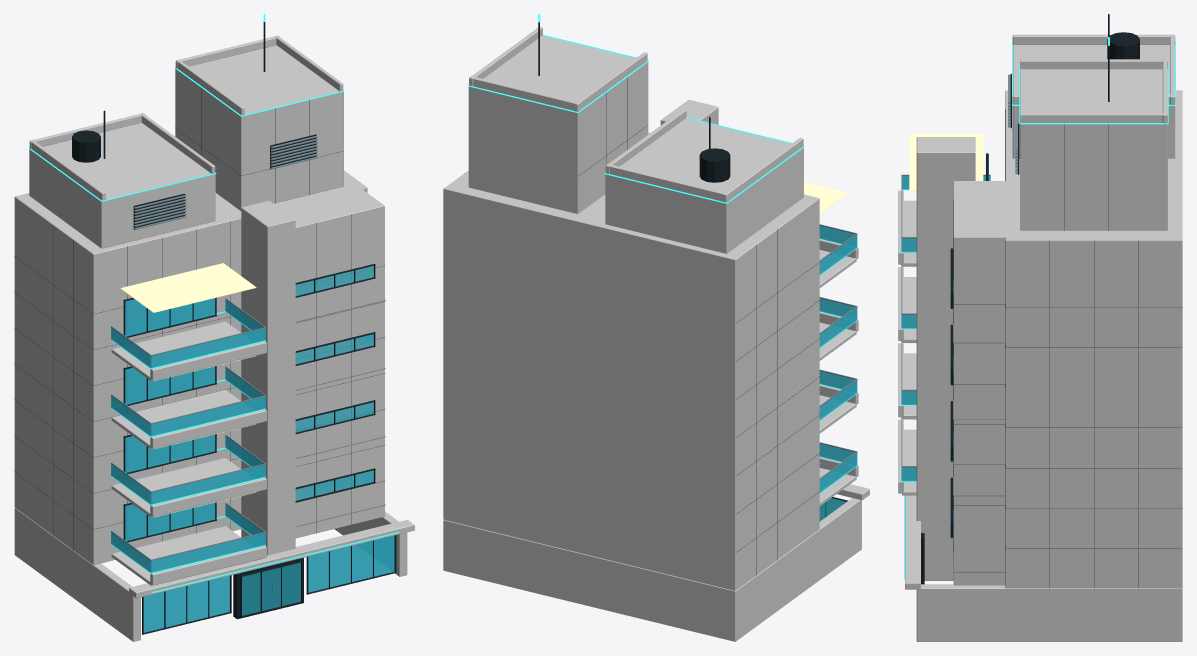
Rendered from building_01.glb.
3 views of the same model, side by side, from view 1: azimuth 30°, elevation 25°; view 2: azimuth 150°, elevation 25°; view 3: azimuth 270°, elevation 25° (orthographic). The views are drawn at different scales.
Parts seen in each view (by area): view 1: Rear apartment mass, Stepped roof houses, Right wing, Window glazing, Central vertical spine, Floor slabs, Ground level columns, Balcony fascia, Balcony glass, Window mullions, Parapets, Balcony returns (+9 smaller); view 2: Rear apartment mass, Stepped roof houses, Ground level rear wall, Ground level columns, Parapets, Balcony returns, Floor slabs, Balcony glass, Cyan roof edges, Facade panel seams, Balcony fascia, Water tank (+3 smaller); view 3: Rear apartment mass, Stepped roof houses, Right wing, Central vertical spine, Ground level columns, Parapets, Facade panel seams, Floor slabs, Balcony fascia, Shop canopy, Warm balcony soffits, Balcony returns (+6 smaller).
Boxes of the visible parts, x1,y1,x2,y2 form: Rear apartment mass: (14, 170, 367, 564); Stepped roof houses: (29, 45, 343, 248); Right wing: (274, 176, 384, 538); Window glazing: (125, 266, 394, 632); Central vertical spine: (241, 200, 295, 555); Floor slabs: (111, 321, 264, 585); Ground level columns: (14, 508, 407, 641); Balcony fascia: (150, 341, 266, 585); Balcony glass: (151, 328, 265, 572); Window mullions: (123, 263, 396, 634); Parapets: (29, 35, 343, 200); Balcony returns: (111, 299, 265, 572); Rear apartment mass: (443, 170, 819, 590); Stepped roof houses: (468, 35, 803, 253); Ground level rear wall: (443, 520, 739, 641); Ground level columns: (443, 498, 861, 641); Parapets: (469, 26, 803, 202); Balcony returns: (819, 235, 857, 492); Floor slabs: (819, 250, 856, 505); Balcony glass: (819, 225, 856, 464); Cyan roof edges: (468, 34, 857, 493); Facade panel seams: (464, 77, 819, 575); Balcony fascia: (819, 239, 858, 477); Water tank: (699, 148, 730, 182); Rear apartment mass: (1005, 90, 1182, 588); Stepped roof houses: (1012, 45, 1175, 230); Right wing: (953, 181, 1056, 585); Central vertical spine: (916, 137, 975, 580); Ground level columns: (916, 584, 1181, 641); Parapets: (1012, 34, 1175, 123); Facade panel seams: (953, 109, 1182, 588); Floor slabs: (902, 200, 916, 495); Balcony fascia: (898, 190, 903, 493); Shop canopy: (905, 495, 920, 589); Warm balcony soffits: (909, 134, 983, 420); Balcony returns: (902, 176, 990, 481).
Size of the model in its own units: 24.4 by 43 by 19.25.
